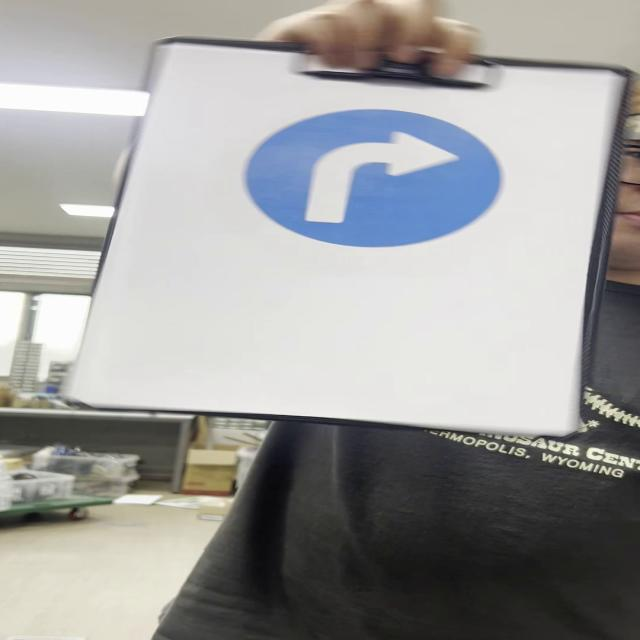right: (242, 106, 511, 249)
